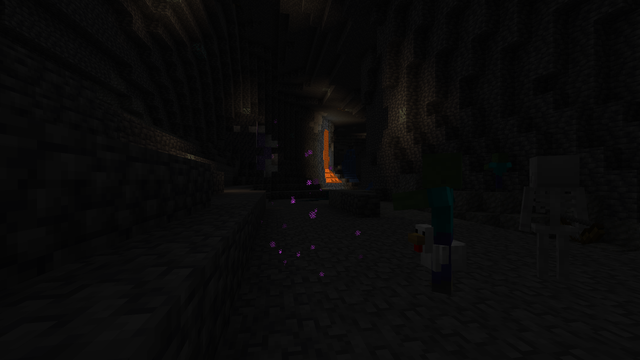squelettes: (519, 155, 588, 286)
zombies: (413, 155, 474, 296), (490, 153, 509, 191)
